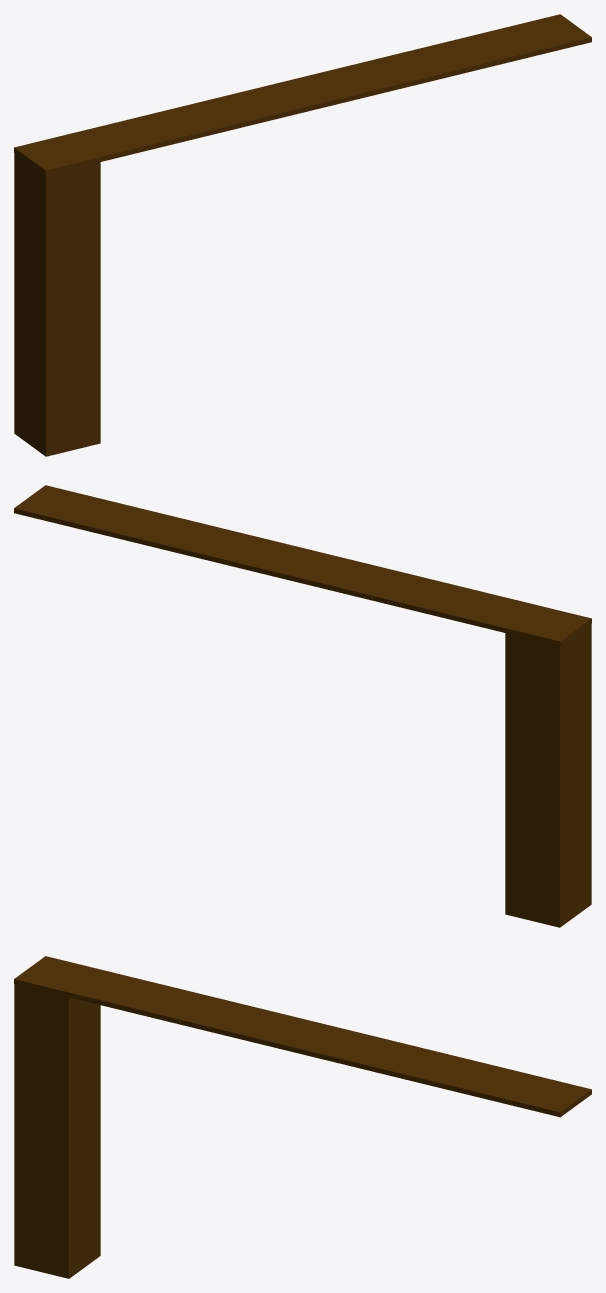
Rendered from fence4.fbx.
3 renders of one model, top to bottom at view 1: azimuth 30°, elevation 25°; view 2: azimuth 150°, elevation 25°; view 3: azimuth 330°, elevation 25°, orthographic.
Parts seen in each view (by area): view 1: polySurface8; view 2: polySurface8; view 3: polySurface8.
Part boxes in pixels (left/top/right/bottom): polySurface8: left=14, top=14, right=591, bottom=456; polySurface8: left=14, top=485, right=591, bottom=927; polySurface8: left=14, top=956, right=591, bottom=1278.
Bounding box in the file's own units: 9.99 × 5 × 1.
